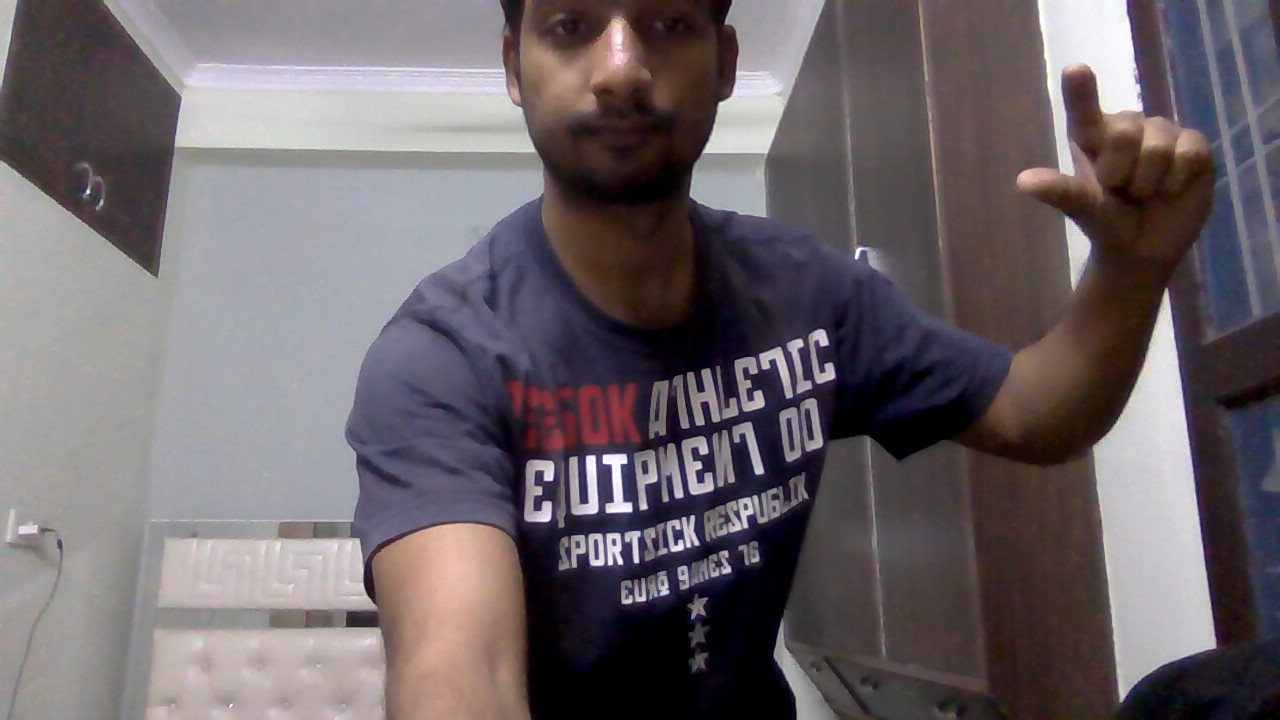Paste: (1002, 49, 1227, 276)
